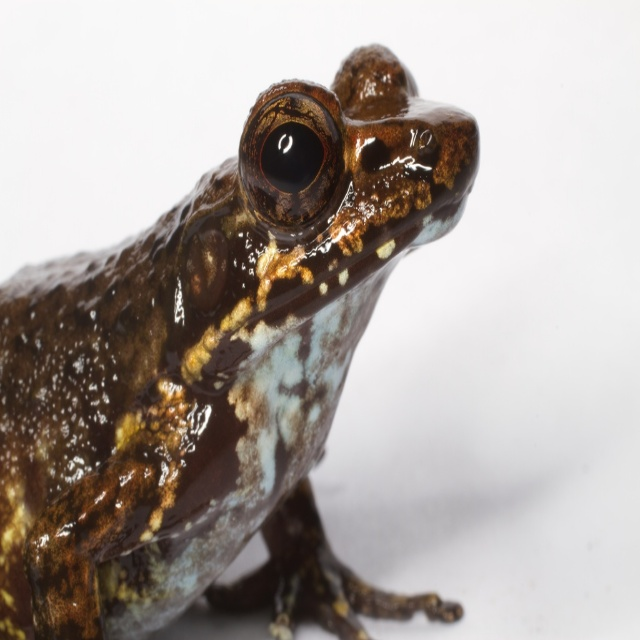Frog: (0, 41, 478, 639)
